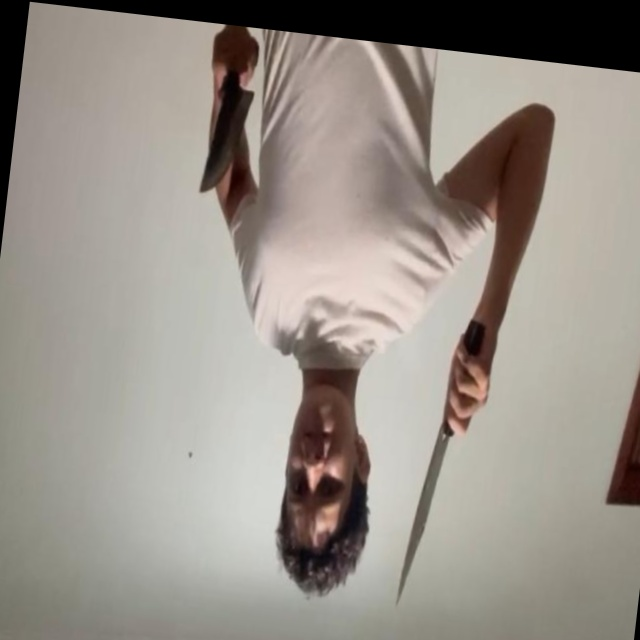Sharp-Object: (393, 426, 448, 610), (196, 83, 253, 199)
